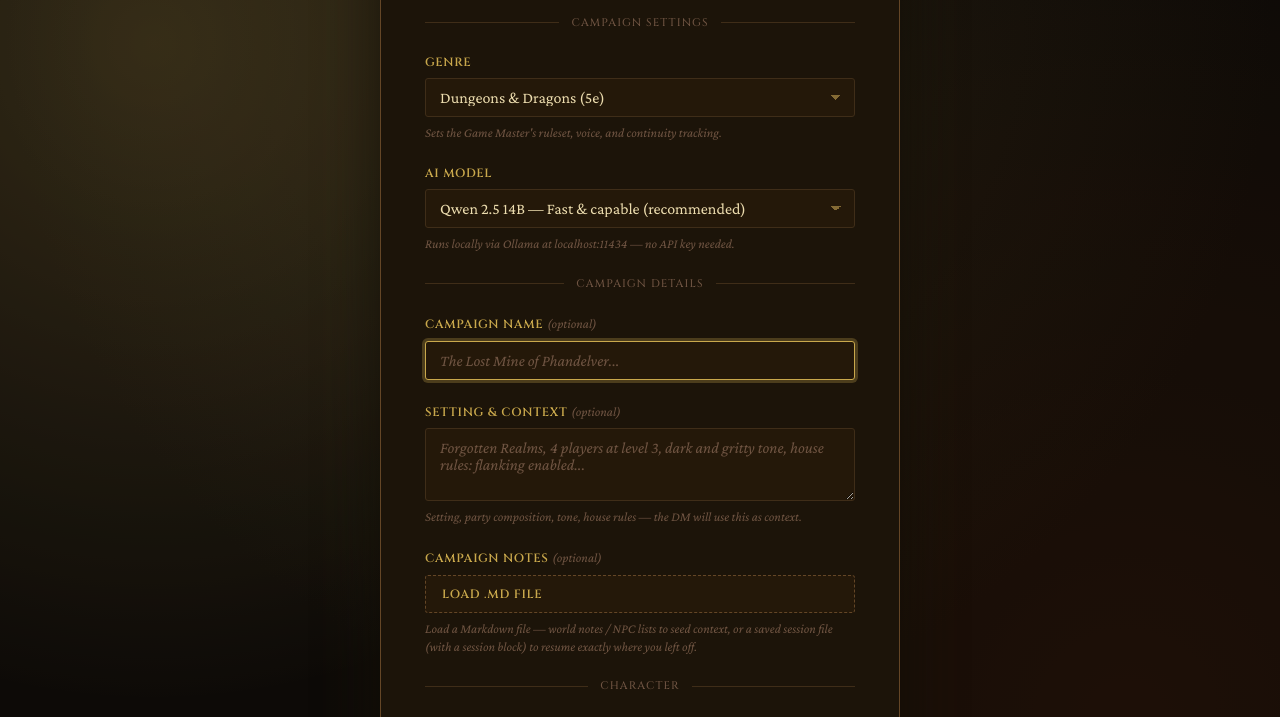
Test case: App — handleSetup localStorage contract › clicking the settings gear returns to the setup screen
(page scrolled)
Type "Ironhold" into the field with placeholder "The Lost Mine of Phandelver..." at [640, 360], box x1=425 y1=341 x2=855 y2=380
(page scrolled)
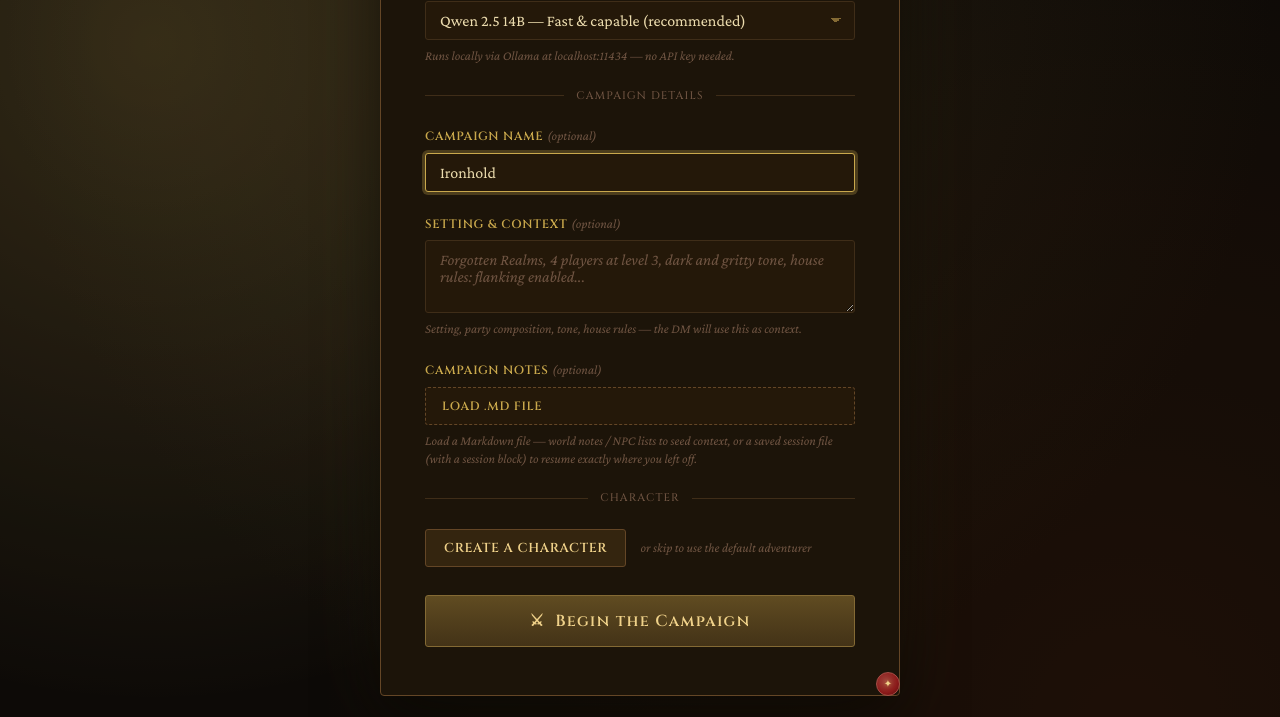
Click the button "⚔ Begin the Campaign" at [640, 621], box x1=425 y1=595 x2=855 y2=647
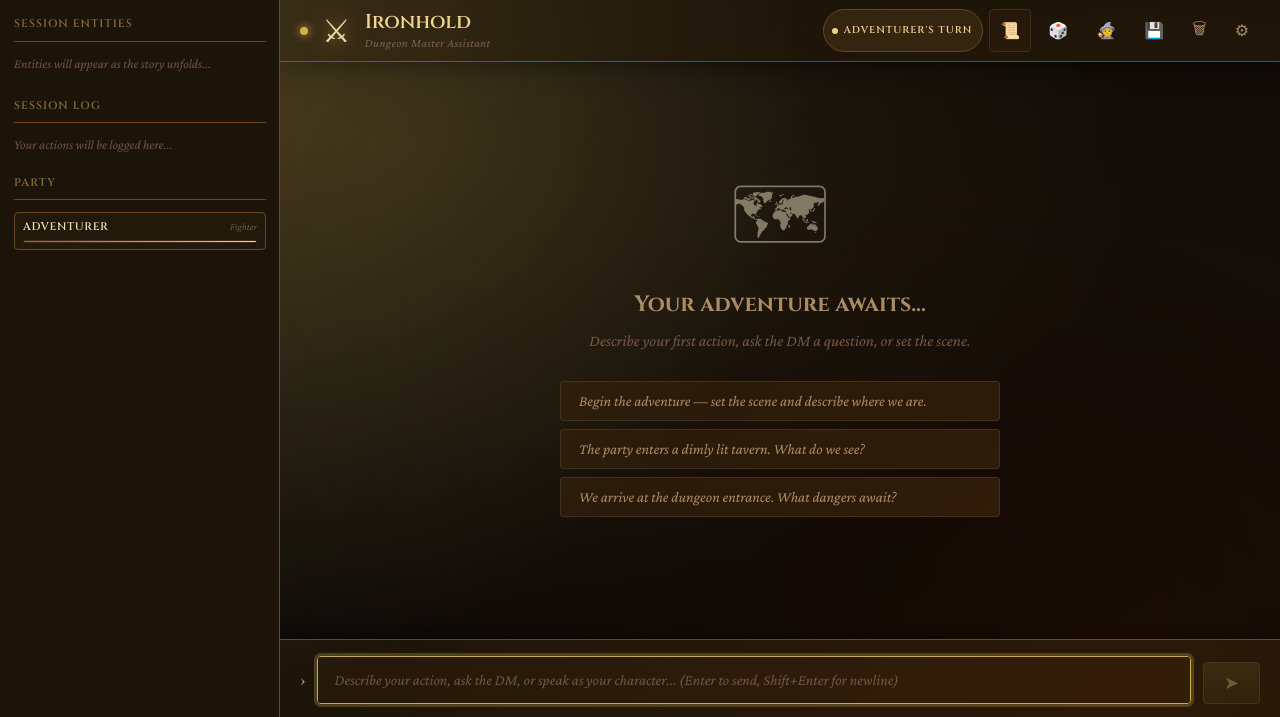
expect the text "Ironhold" is shown: met, box x1=365 y1=8 x2=471 y2=34
Click the button titled "Campaign Settings" at [1242, 30], box x1=1224 y1=9 x2=1260 y2=52
(page scrolled)
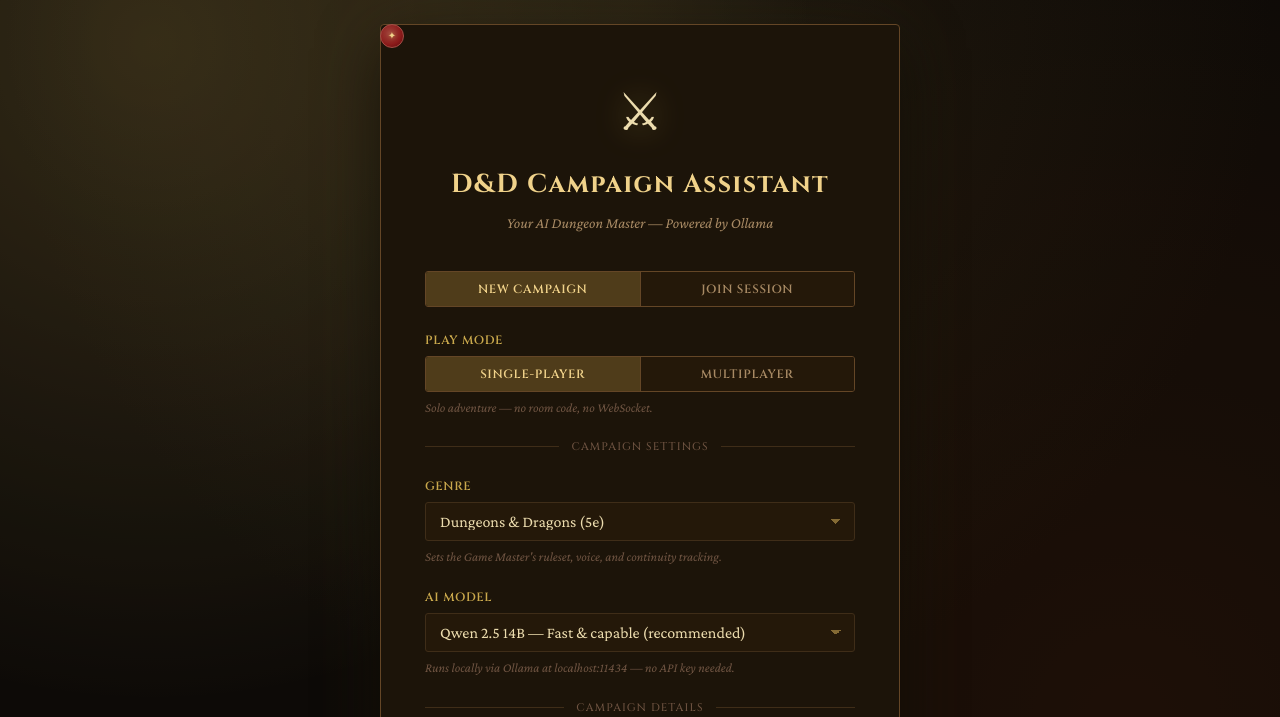
expect the heading "D&D Campaign Assistant" is shown: met, box x1=425 y1=165 x2=855 y2=204
